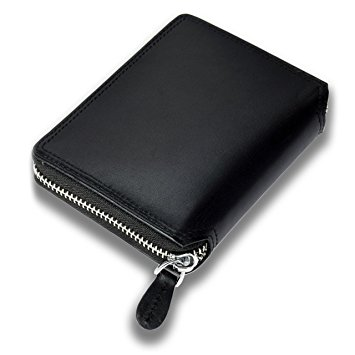monedero: (32, 13, 330, 331)
